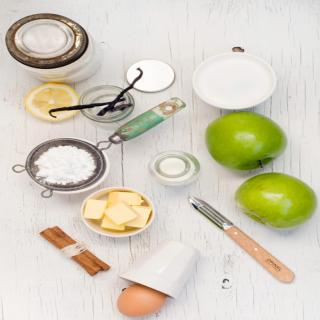Cheese: (82, 190, 152, 232)
Lemon: (26, 83, 81, 122)
